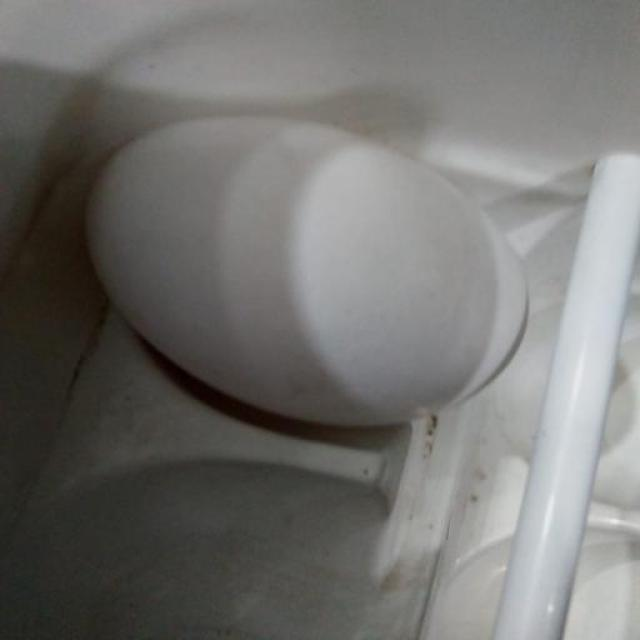telur: (85, 109, 525, 427)
